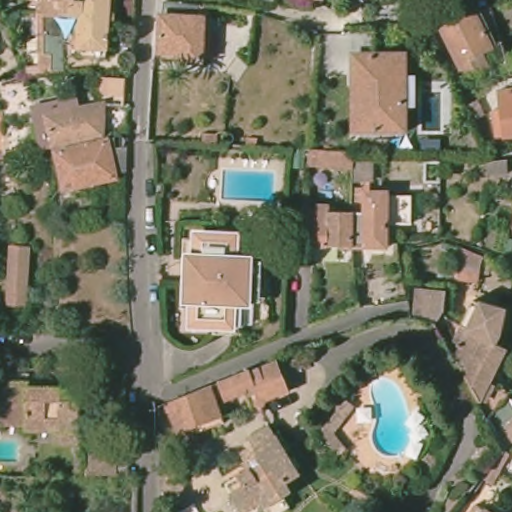pool: (364, 374, 415, 462), (216, 165, 279, 207), (418, 88, 444, 138), (1, 437, 28, 466)
